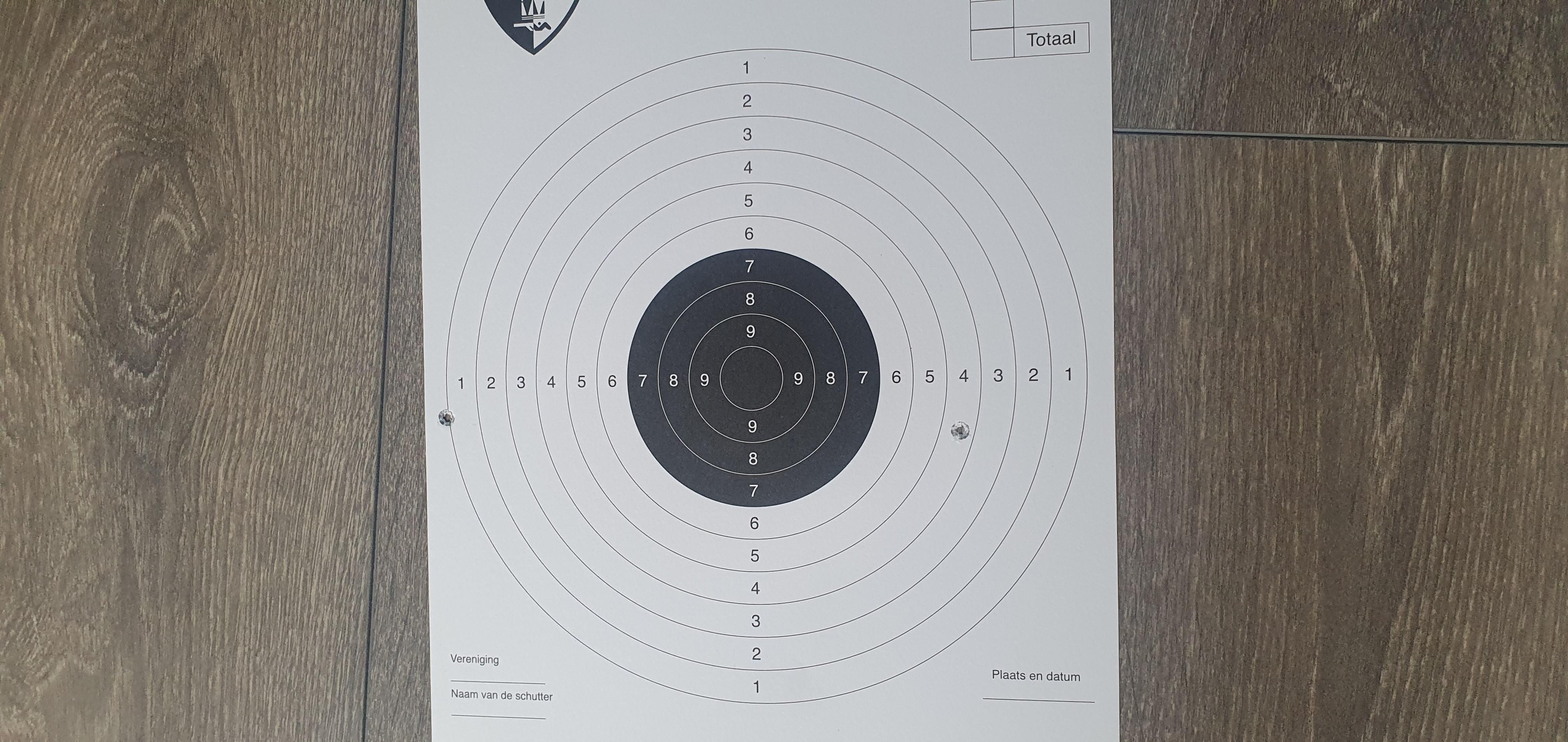hole: (633, 449, 680, 459), (666, 207, 701, 216)
